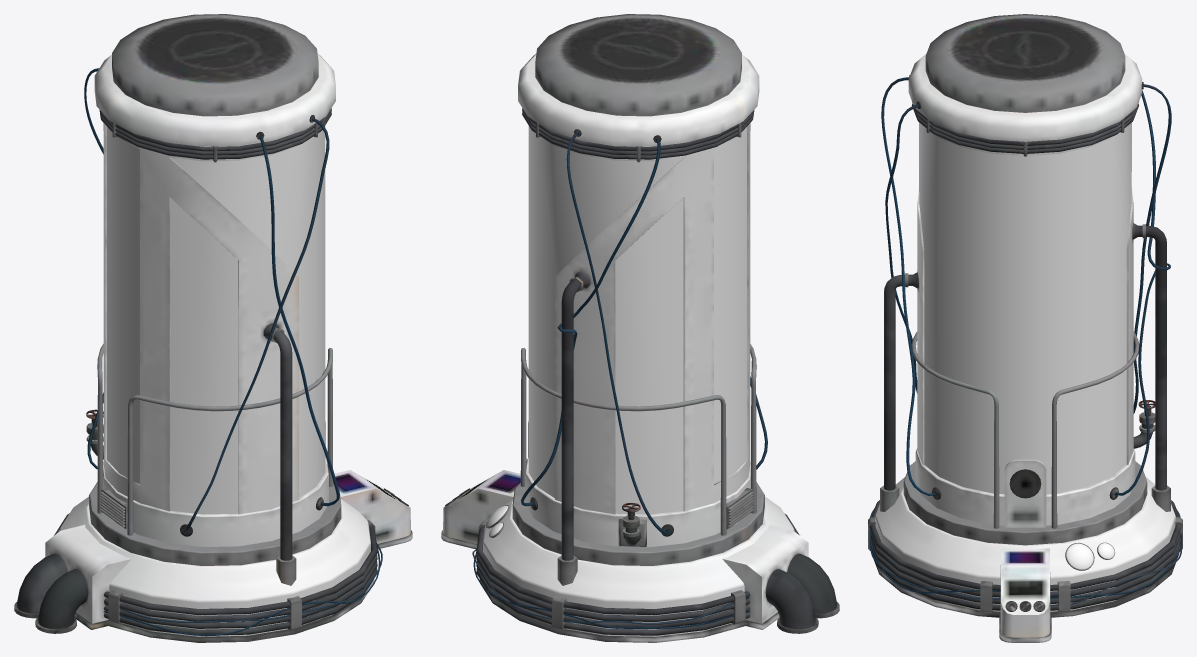
The model's file is SM_PalSynthesizer_81d3a2.glb.
3 views of the same model, side by side, from view 1: azimuth 30°, elevation 25°; view 2: azimuth 150°, elevation 25°; view 3: azimuth 270°, elevation 25° (orthographic). The views are drawn at different scales.
Bounding box in the file's own units: 5.25 × 6.99 × 3.95.
Materials: 2 (1 with a texture image).
